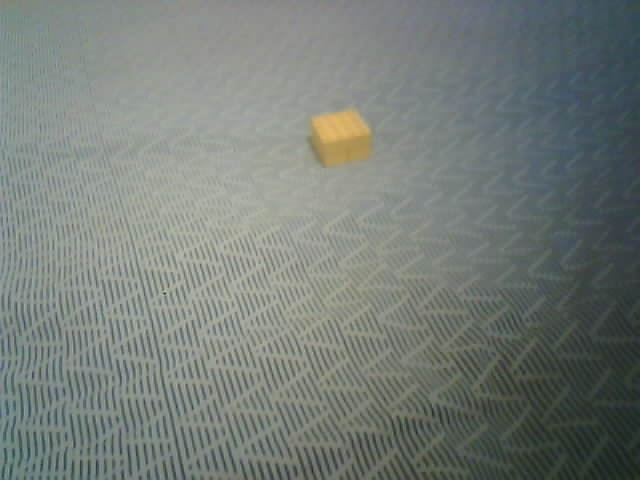lego: (309, 108, 373, 167)
